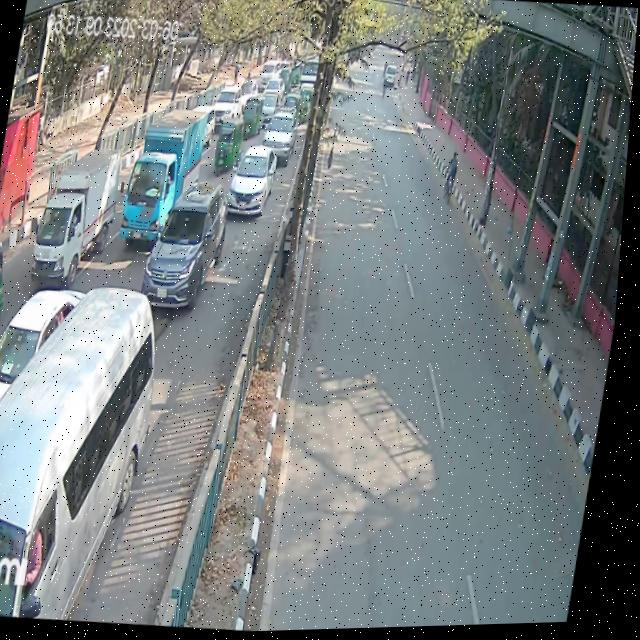cng: (210, 119, 249, 179), (237, 96, 269, 139)
